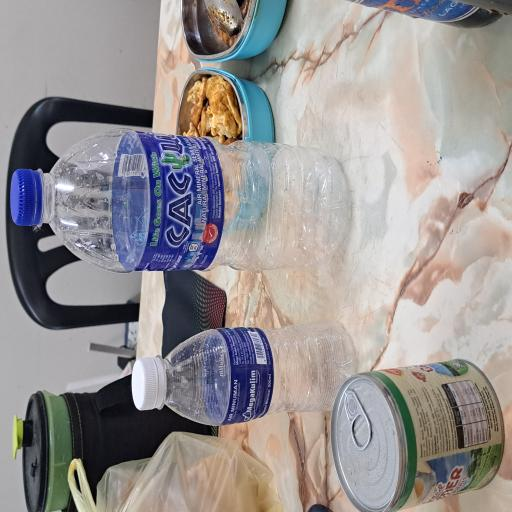can: (0, 441, 117, 512), (47, 454, 94, 500)
plastic bottle: (180, 9, 287, 468), (64, 175, 144, 477)
plastic bottle cap: (214, 12, 259, 57), (76, 175, 117, 221)
